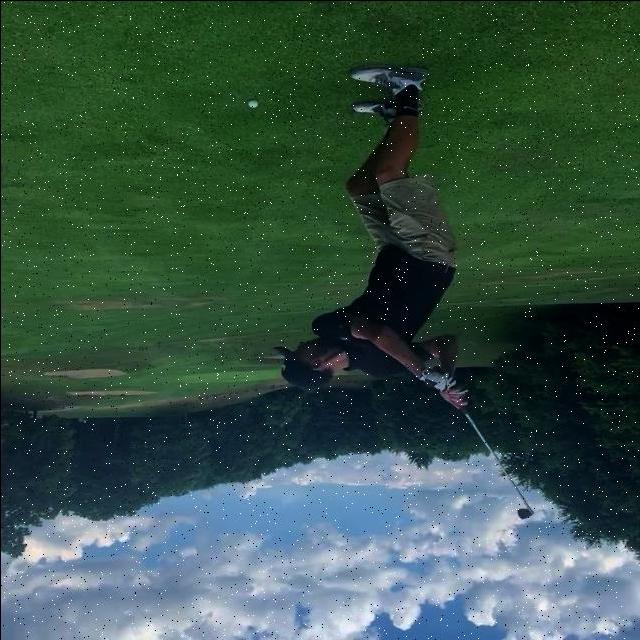golf ball: (245, 99, 257, 109)
golf club-handle: (434, 366, 535, 520)
golf club-head: (516, 506, 533, 518)
